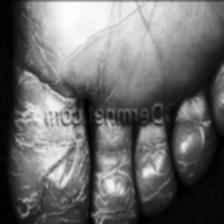Non-Cancerous Skin Condition: (22, 138, 86, 224), (93, 170, 132, 224)
